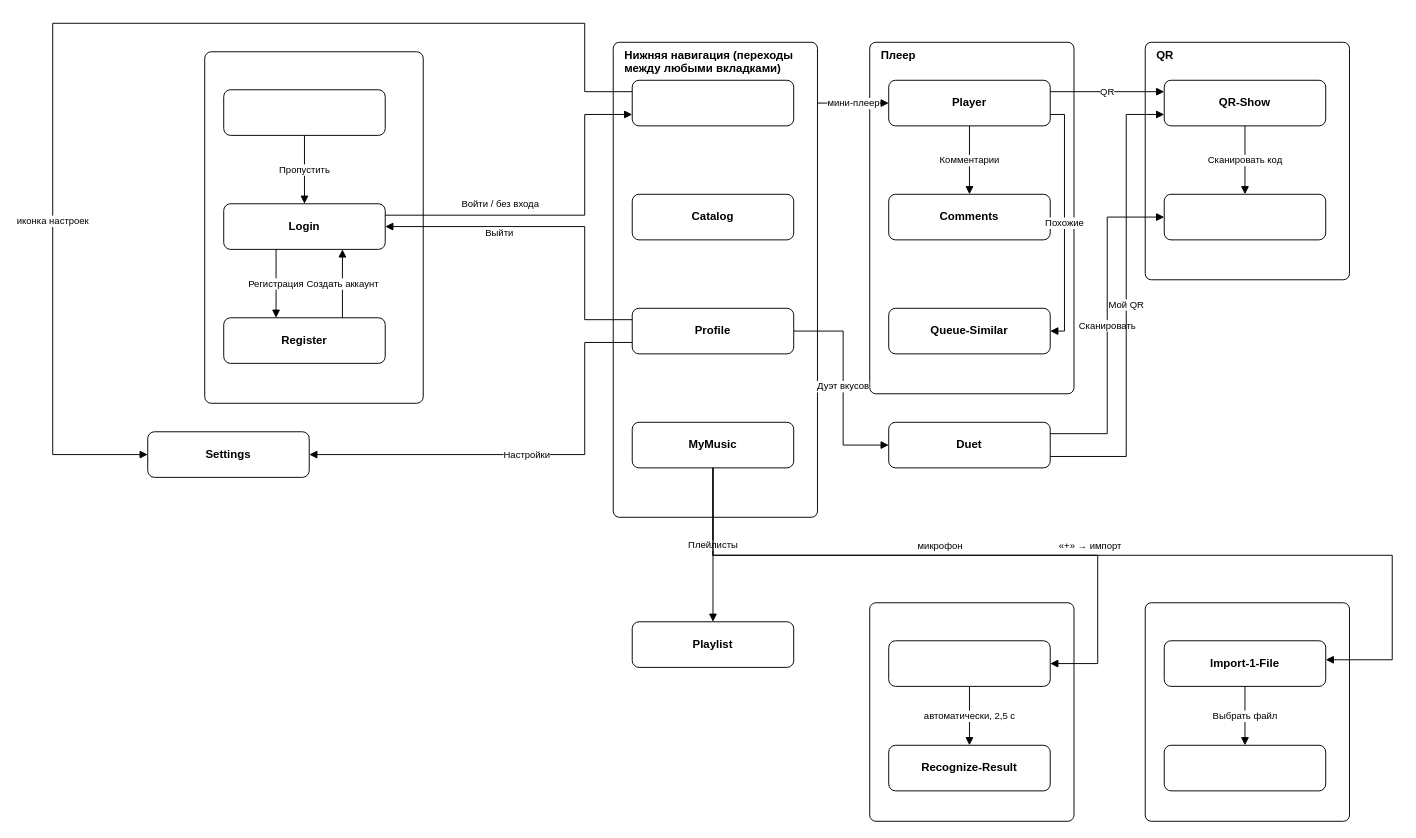
Image size: 1416x838. Some labels were removed from this diagram. Here are the shapes that lost their labels. From the top down, the box of each, then its label:
(223, 89, 385, 135): Onboarding
(631, 79, 794, 126): Home
(204, 51, 423, 403): Вход
(1163, 193, 1326, 240): QR-Scan
(888, 640, 1050, 686): Recognize-Listening
(869, 602, 1074, 821): Распознавание
(1144, 602, 1349, 821): Импорт плейлиста
(1163, 744, 1326, 791): Import-2-Check
